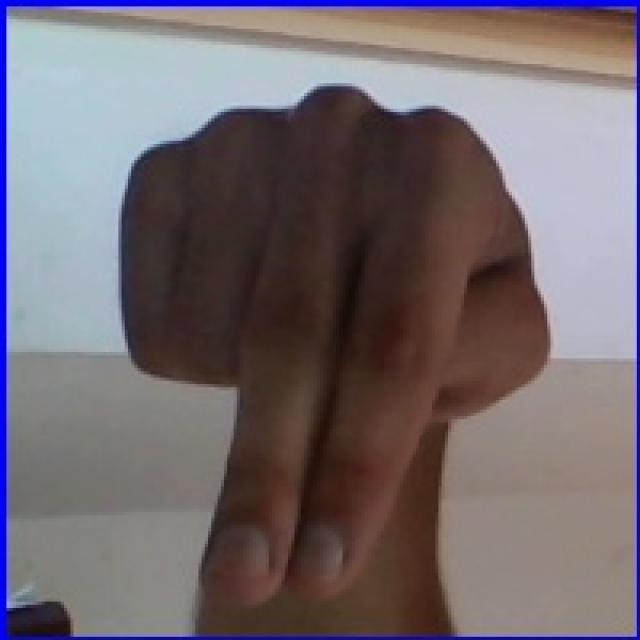Letra-N: (92, 76, 580, 640)
